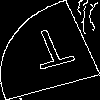T: (25, 25, 81, 79)
